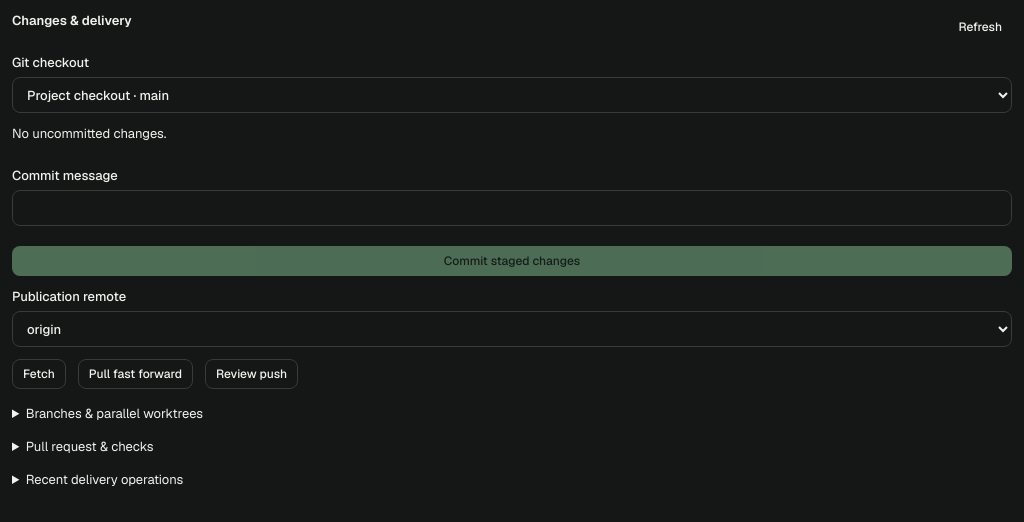
it: reconciles uncertain delivery after reload without replaying it
Click the heading "Recent delivery operations" at (105, 480), box 26,471 -> 183,488
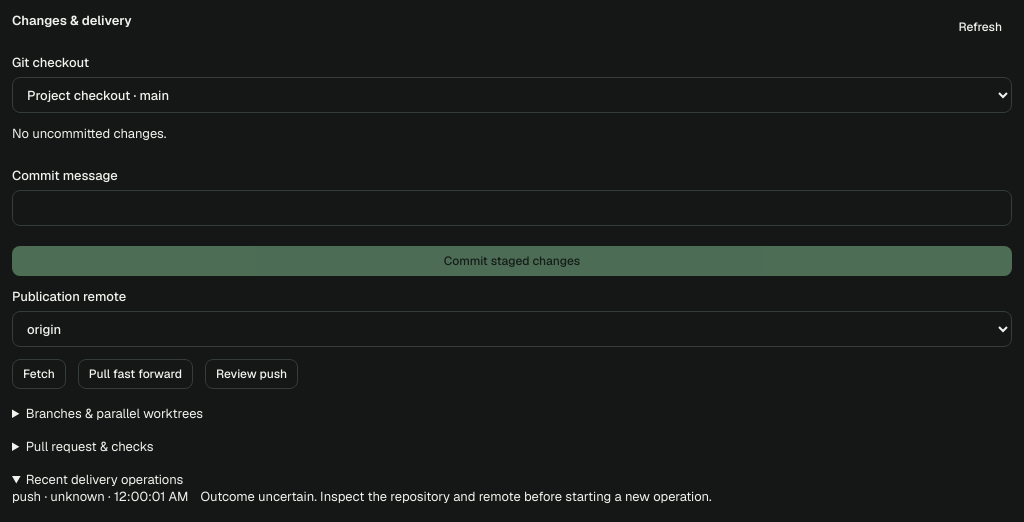
Expected: the text "Outcome uncertain" is shown, 200,488 -> 712,505
